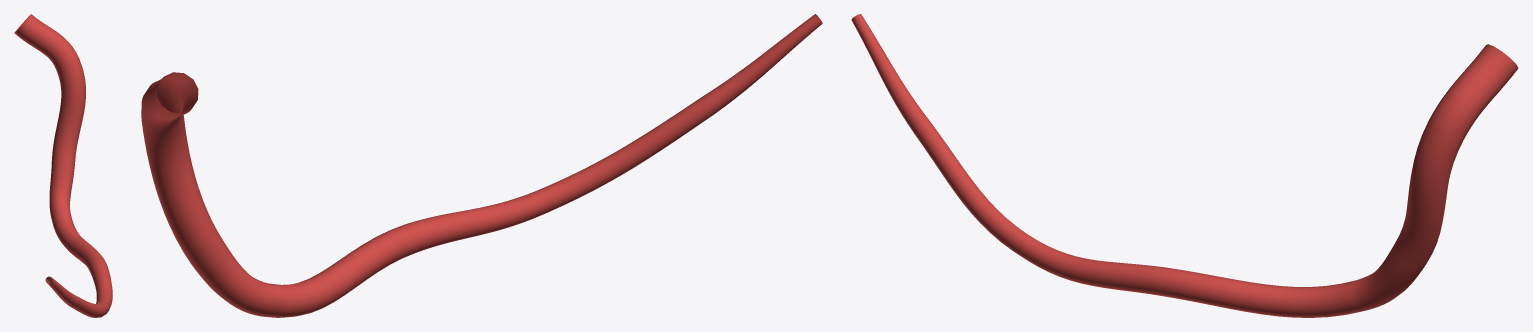
The picture shows the model from 3 angles, left to right: view 1: azimuth 30°, elevation 25°; view 2: azimuth 150°, elevation 25°; view 3: azimuth 270°, elevation 25°; orthographic projection. The views are drawn at different scales.
Parts seen in each view (by area): view 1: 右侧胼缘动脉额支; view 2: 右侧胼缘动脉额支; view 3: 右侧胼缘动脉额支.
Part boxes in pixels (<box>): 右侧胼缘动脉额支: <box>14,14,112,317</box>; 右侧胼缘动脉额支: <box>141,14,822,317</box>; 右侧胼缘动脉额支: <box>851,14,1518,317</box>.
Size of the model in its own units: 0.0204 by 0.0161 by 0.034.
